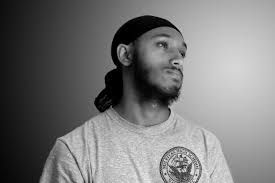no-mask: (111, 15, 198, 106)
